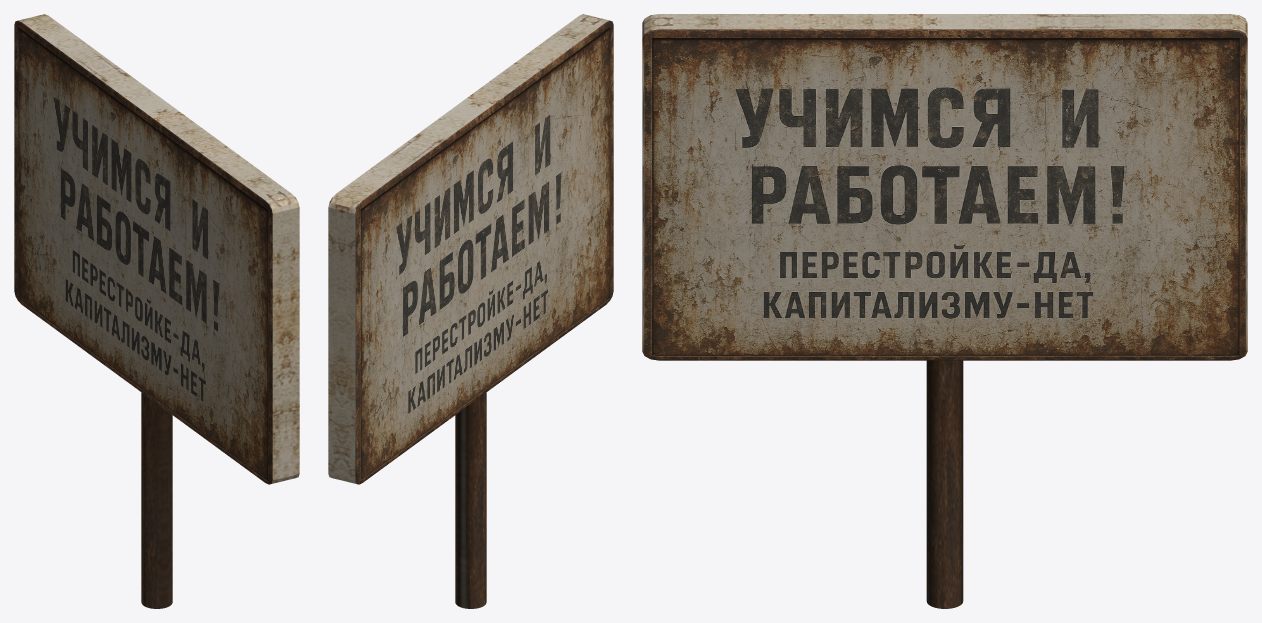
File: twoface.glb
3 renders of one model, left to right at view 1: azimuth 30°, elevation 25°; view 2: azimuth 150°, elevation 25°; view 3: azimuth 270°, elevation 25°, orthographic. The views are drawn at different scales.
Visible parts, largest first — view 1: Cube.001; view 2: Cube.001; view 3: Cube.001.
Part boxes in pixels (x1,y1,x2,y2): Cube.001: (14,14,299,608); Cube.001: (328,14,613,608); Cube.001: (642,14,1247,608).
Bounding box in the file's own units: 0.8442 × 14 × 13.26.
Materials: 1 (1 with a texture image).
